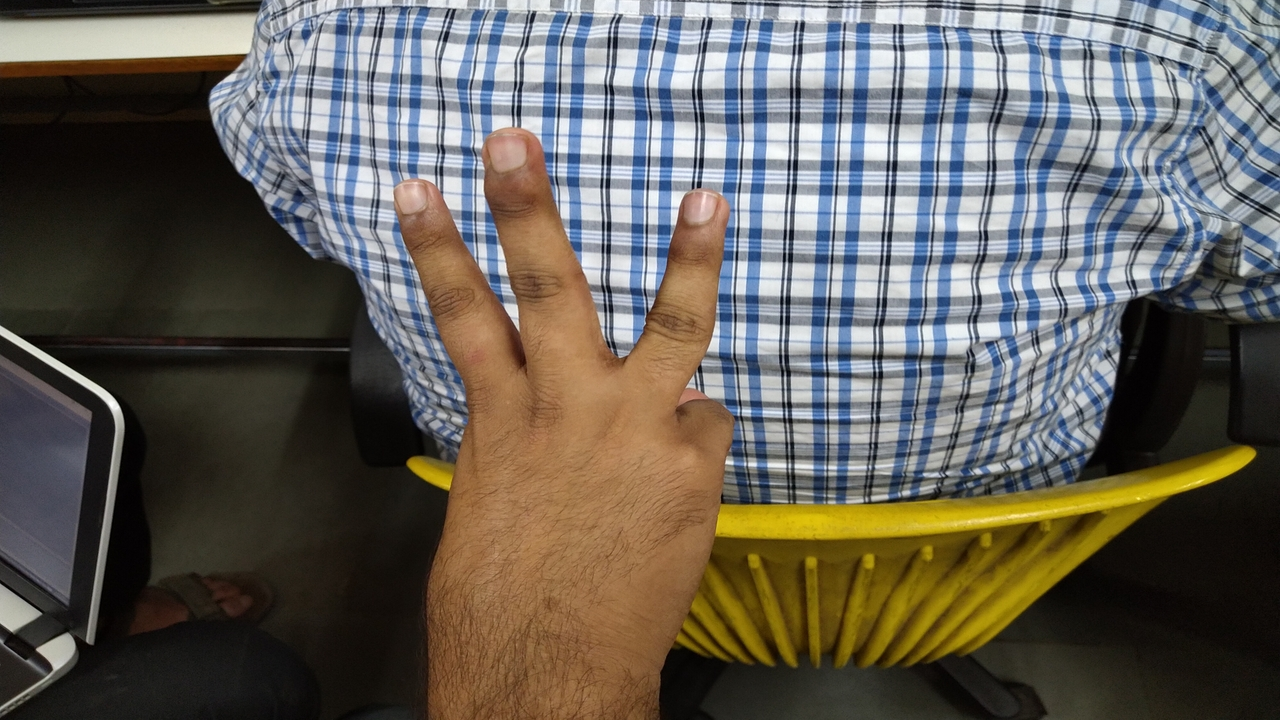fingertip: (472, 124, 546, 192), (664, 184, 736, 248), (382, 170, 446, 230)
